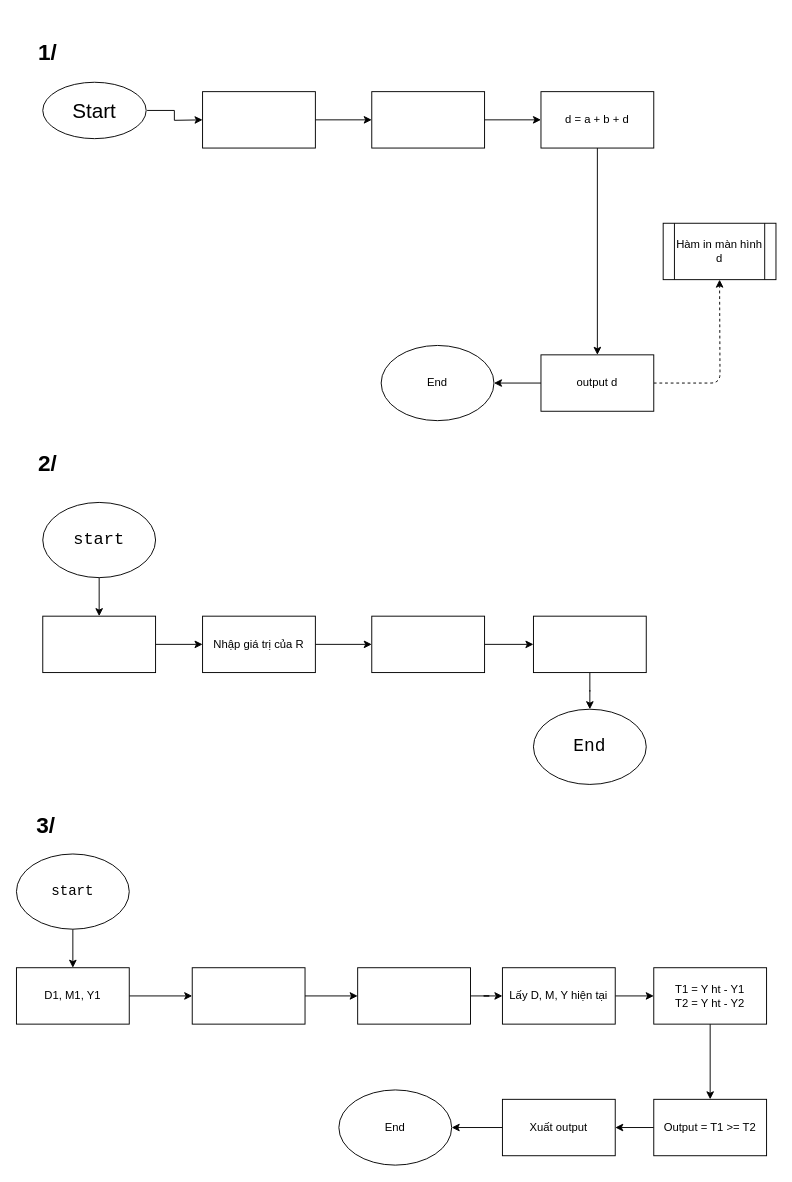
This 792x1182 diagram has some shape labels left out. Each missing label, with the centre of its shape:
"D2, M2, Y2" goes at [248,995].
"double P, R" goes at [99,644].
"input a, b, c" goes at [428,119].
"Khai báo int cho a, b, c, d" goes at [258,119].
"Nhập D1, M1, Y1, D2, M2, Y2" goes at [413,995].
"P = 2 * 3,14 * R" goes at [428,644].
"Xuất màn hình" goes at [589,644].
